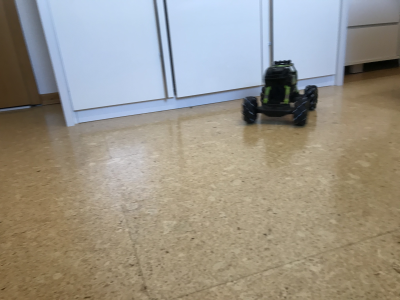remote control car: (240, 55, 320, 128)
